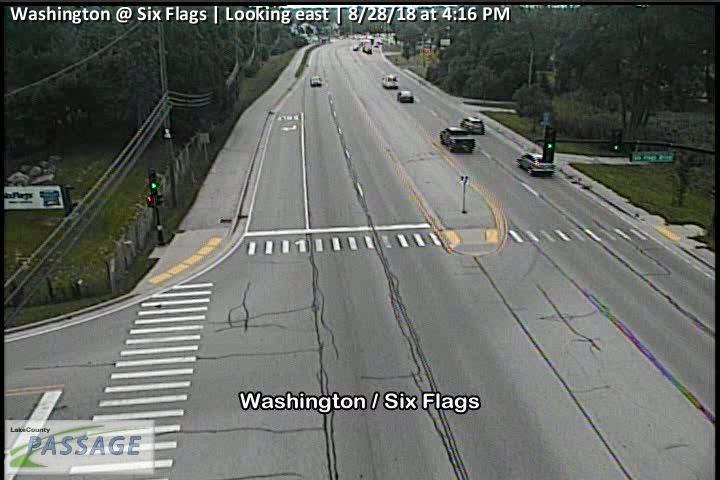SUV: (440, 125, 476, 155), (516, 152, 554, 177), (461, 115, 486, 136), (381, 73, 399, 89), (396, 90, 416, 103)
Sedan: (309, 74, 322, 88), (362, 38, 371, 52)
